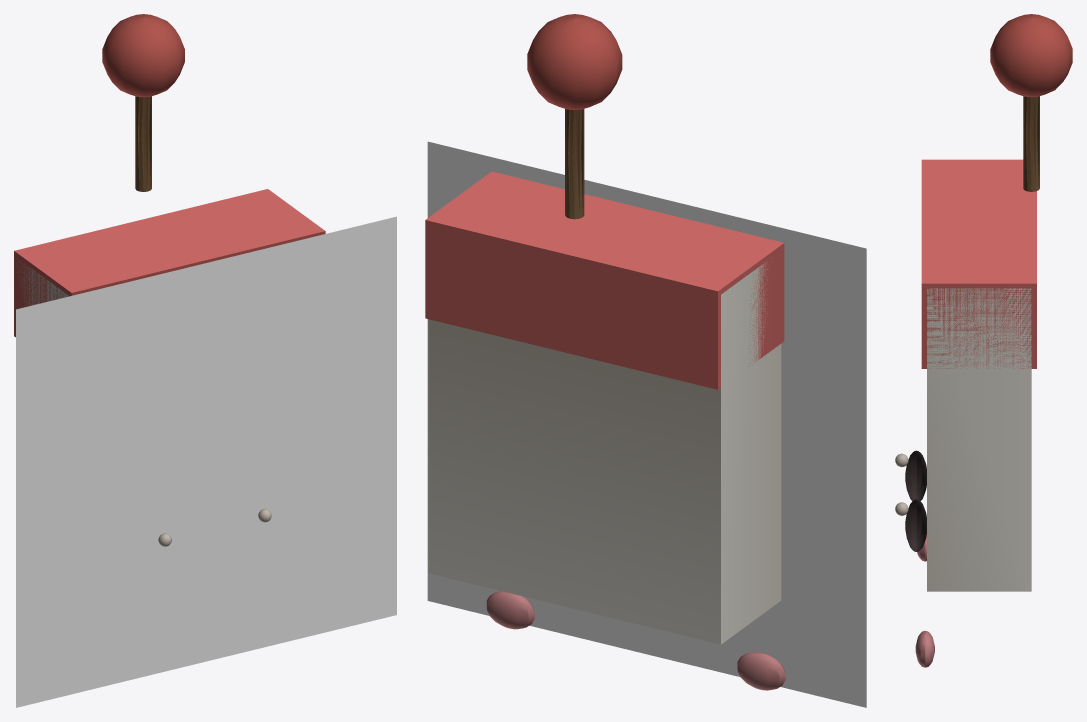
File: pcbf6c7b6.glb
3 renders of one model, left to right at view 1: azimuth 30°, elevation 25°; view 2: azimuth 150°, elevation 25°; view 3: azimuth 270°, elevation 25°, orthographic. The views are drawn at different scales.
Parts seen in each view (by area): view 1: pet_pcbf6c7b6; view 2: pet_pcbf6c7b6; view 3: pet_pcbf6c7b6.
Boxes of the visible parts, x1,y1,x2,y2 form: pet_pcbf6c7b6: (14,14,396,707); pet_pcbf6c7b6: (425,14,866,707); pet_pcbf6c7b6: (895,14,1072,667).
Bounding box in the file's own units: 0.42 × 0.63 × 0.1698.
